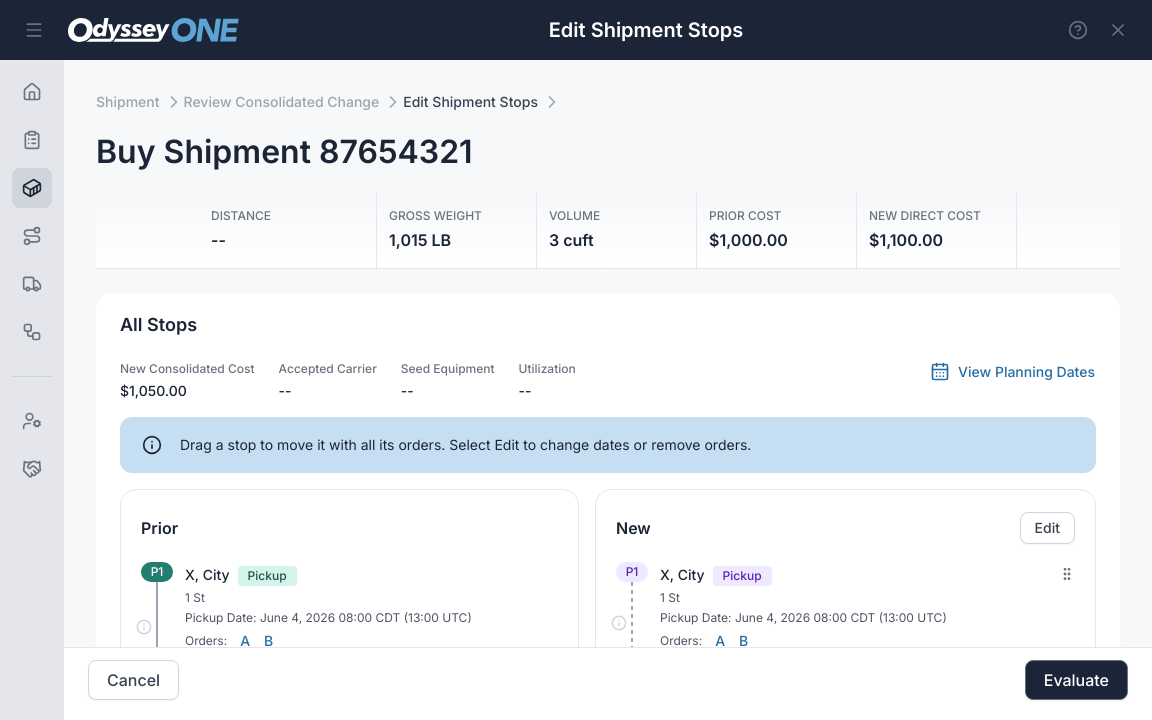
it: OrderChangeEditStopsRoute › mock mode: Approve shows the live-API error and does not navigate
Click the button "Evaluate".
click(1076, 680)  # box [1025,660,1128,700]
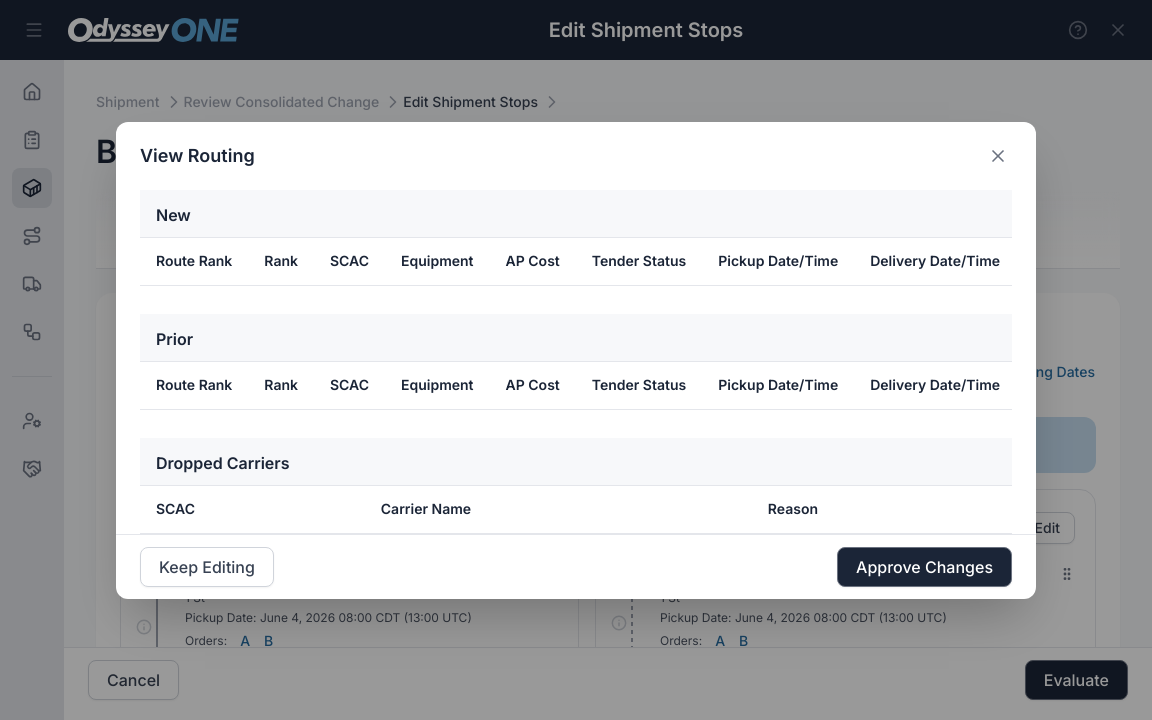
Click the button "Approve Changes".
click(925, 566)  # box [837,546,1012,586]
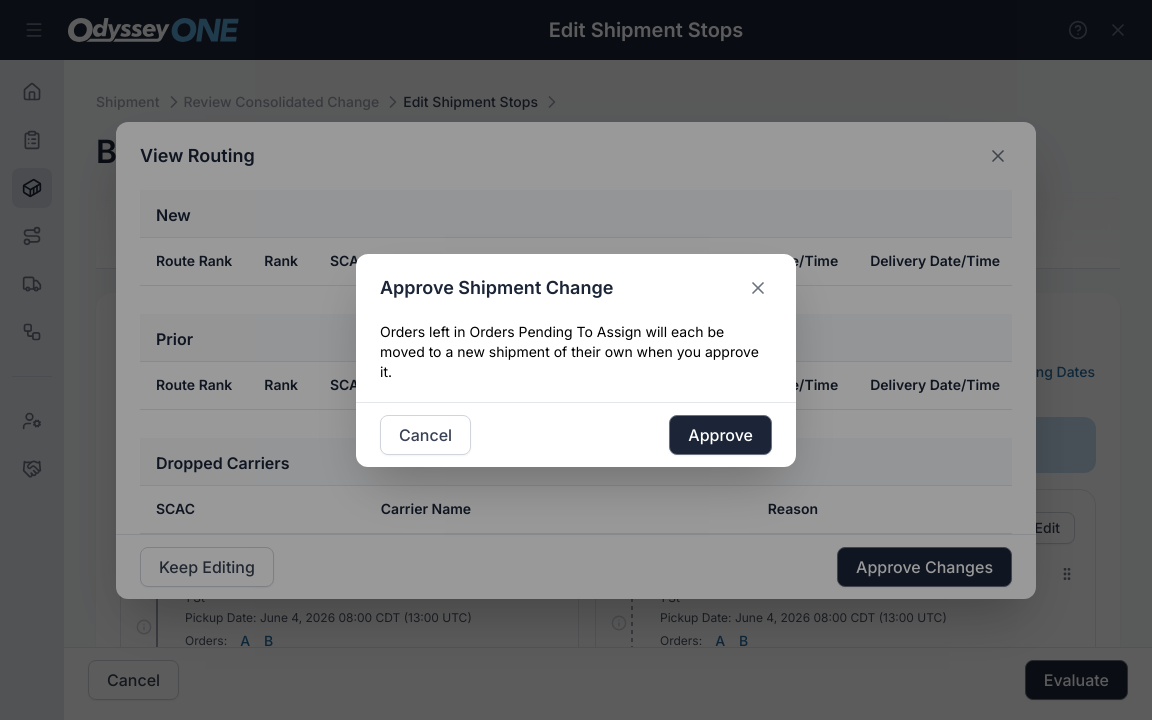
Click the button "Approve".
click(721, 434)  # box [669,414,772,454]
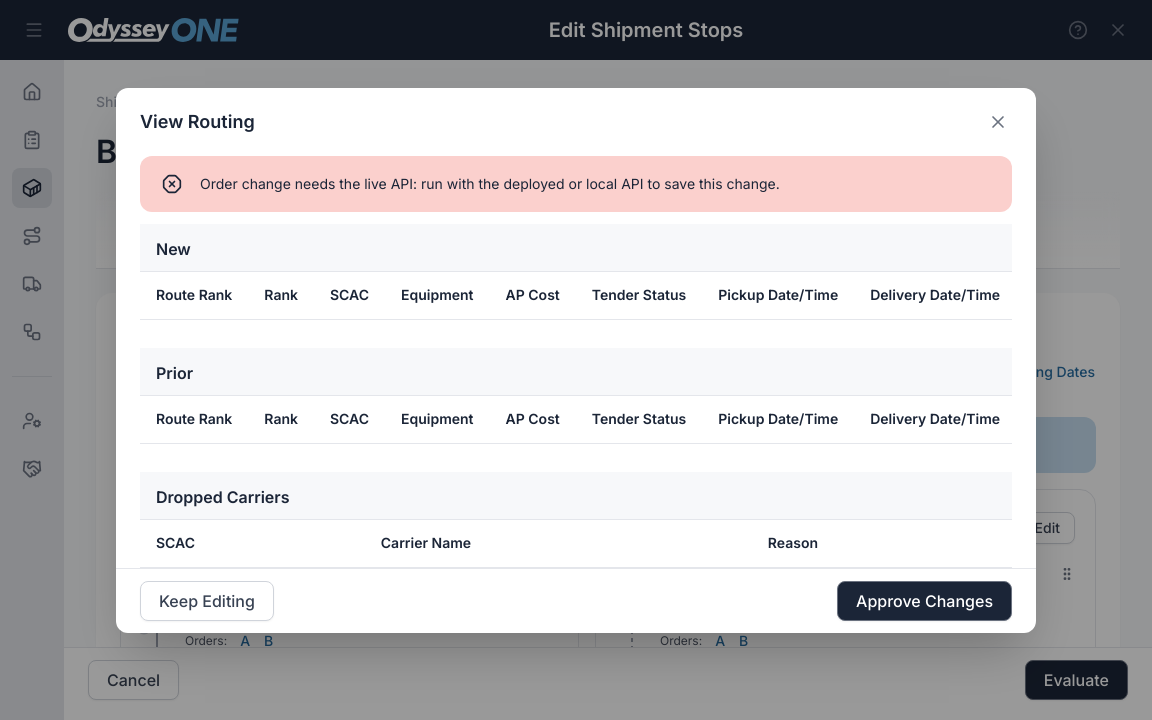
Check: the dialog "View Routing" is shown
Check: the text "Order change needs the live API" is shown, box [200,174,780,192]
